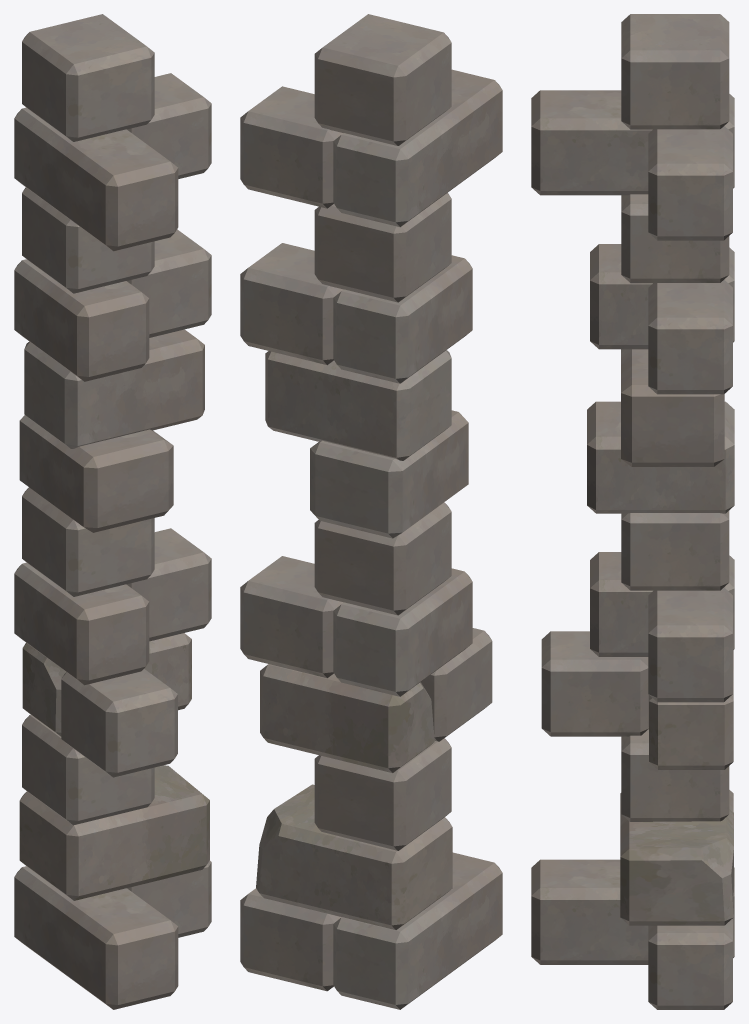
Rendered from SM_Corner_wall.fbx.
3 views of the same model, side by side, from view 1: azimuth 30°, elevation 25°; view 2: azimuth 150°, elevation 25°; view 3: azimuth 270°, elevation 25° (orthographic). The views are drawn at different scales.
Visible parts, largest first — view 1: SM_Corner_wall_LOD0; view 2: SM_Corner_wall_LOD0; view 3: SM_Corner_wall_LOD0.
Part boxes in pixels (x1,y1,x2,y2): SM_Corner_wall_LOD0: (14,14,211,1009); SM_Corner_wall_LOD0: (240,14,502,1009); SM_Corner_wall_LOD0: (531,14,734,1009).
Size of the model in its own units: 113 by 120 by 601.
1 material, 1 textured.
